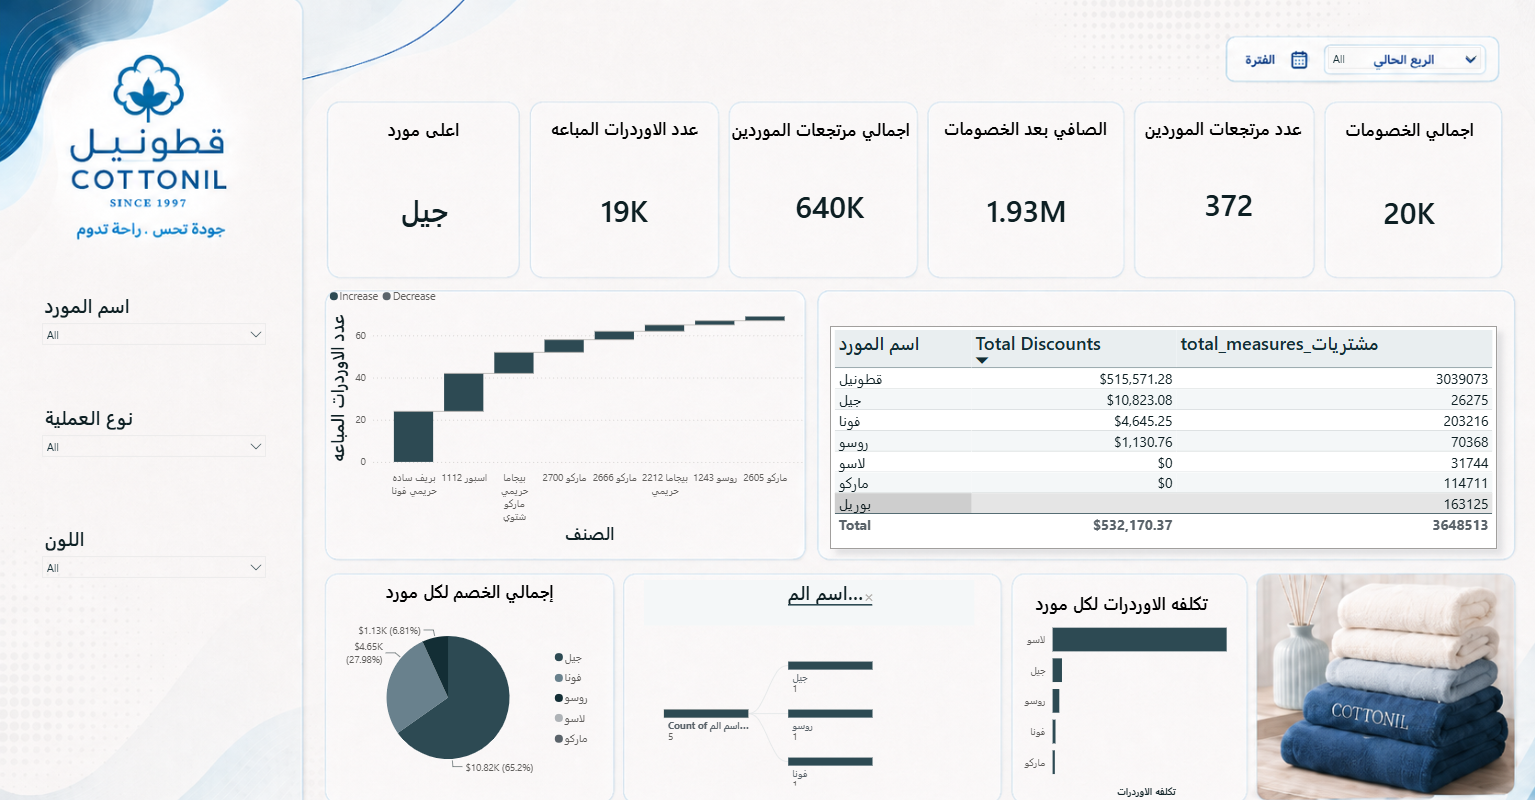

This screenshot's page, from the dashboard's own definition file:
{"tool":"powerbi","page":{"name":"موردين","canvas":[1920,1080],"ordinal":2},"visuals":[{"type":"pieChart","fields":{"Category":["اسم الموردين dim.اسم المورد"],"Y":["Sum(factكشف حساب الموردين.خصم)"]},"box":[422.9,758.6,327.1,231.4],"z":0},{"type":"cardVisual","fields":{"Data":["Min(factكشف حساب الموردين.اسم المورد)"]},"box":[440,216.7,180,95],"z":1000},{"type":"cardVisual","fields":{"Data":["_Measures المشترياتx المبيعات.عدد الاوردرات"]},"box":[1674.3,190,175.7,150],"z":2000},{"type":"card","fields":{"Values":["Sum(المشتريات قبل وبعد الخصم fact.الصافي)"]},"box":[1190,213.3,186.7,103.3],"z":3000},{"type":"card","fields":{"Values":["_Measures كشف حساب الموردين.قيمه المرتجعات من الموردين"]},"box":[948.3,208.3,176.7,103.3],"z":4000},{"type":"card","fields":{"Values":["_Measures المشترياتx المبيعات.عدد الاوردرات المباعه"]},"box":[681.7,213.3,198.3,103.3],"z":5000},{"type":"textbox","box":[1161.7,143.3,241.7,68.3],"z":7000},{"type":"textbox","box":[1641.7,145,241.7,68.3],"z":8000},{"type":"textbox","box":[905,145,241.7,68.3],"z":9000},{"type":"textbox","box":[675,143.3,211.7,68.3],"z":10000},{"type":"textbox","box":[423.3,145,211.7,68.3],"z":11000},{"type":"card","fields":{"Values":["_Measures كشف حساب الموردين.مرتجعات الموردين"]},"box":[1442.9,177.1,187.1,161.4],"z":12000},{"type":"tableEx","fields":{"Values":["اسم الموردين dim.اسم المورد","_Measures كشف حساب الموردين.Total Discounts","_Measures كشف حساب الموردين.total_measures_مشتريات"]},"box":[1037.1,410,834.3,278.6],"z":13000},{"type":"decompositionTreeVisual","fields":{"Analyze":["Count(dim الاصناف.اسم المورد)"],"ExplainBy":["dim الاصناف.اسم المورد"]},"box":[800,722.9,422.9,267.1],"z":14000},{"type":"textbox","box":[1415.7,144.3,225.7,68.6],"z":15000},{"type":"barChart","fields":{"Category":["factكشف حساب الموردين.اسم المورد"],"Y":["_Measures كشف حساب الموردين.تكلفه الاوردرات"]},"box":[1274.3,758.6,281.4,245.7],"z":16000},{"type":"slicer","fields":{"Values":["المبيعات dim date.الشهر"]},"box":[1650,51.4,211.4,52.9],"z":16001},{"type":"waterfallChart","fields":{"Category":["dim الاصناف.الصنف"],"Y":["_Measures المشترياتx المبيعات.عدد الاوردرات المباعه"]},"box":[405.7,352.9,605.7,335.7],"z":16002},{"type":"textbox","box":[1261.4,737.1,281.4,42.9],"z":16003},{"type":"textbox","box":[398.6,722.9,382.9,51.4],"z":16004},{"type":"slicer","fields":{"Values":["dim الاصناف.اسم المورد"]},"box":[42.9,362.9,300,94.3],"z":16005},{"type":"slicer","fields":{"Values":["المبيعات dim date.نوع العملية"]},"box":[42.9,502.9,300,94.3],"z":16006},{"type":"slicer","fields":{"Values":["المشتريات قبل وبعد الخصم fact.اللون"]},"box":[42.9,654.3,300,94.3],"z":16007}]}

Visuals, with their boxes on the page's 1920x1080 design canvas (x1, y1, x2, y2). These are canvas units, not pixel positions in the 1535x800 screenshot, which may show the page scaled, cropped or inside an application window:
pieChart - اسم الموردين dim.اسم المورد x Sum(factكشف حساب الموردين.خصم): <box>423,759,750,990</box>
cardVisual - Min(factكشف حساب الموردين.اسم المورد): <box>440,217,620,312</box>
cardVisual - _Measures المشترياتx المبيعات.عدد الاوردرات: <box>1674,190,1850,340</box>
card - Sum(المشتريات قبل وبعد الخصم fact.الصافي): <box>1190,213,1377,317</box>
card - _Measures كشف حساب الموردين.قيمه المرتجعات من الموردين: <box>948,208,1125,312</box>
card - _Measures المشترياتx المبيعات.عدد الاوردرات المباعه: <box>682,213,880,317</box>
textbox: <box>1162,143,1403,212</box>
textbox: <box>1642,145,1883,213</box>
textbox: <box>905,145,1147,213</box>
textbox: <box>675,143,887,212</box>
textbox: <box>423,145,635,213</box>
card - _Measures كشف حساب الموردين.مرتجعات الموردين: <box>1443,177,1630,338</box>
tableEx - اسم الموردين dim.اسم المورد x _Measures كشف حساب الموردين.Total Discounts: <box>1037,410,1871,689</box>
decompositionTreeVisual - Count(dim الاصناف.اسم المورد) x dim الاصناف.اسم المورد: <box>800,723,1223,990</box>
textbox: <box>1416,144,1641,213</box>
barChart - factكشف حساب الموردين.اسم المورد x _Measures كشف حساب الموردين.تكلفه الاوردرات: <box>1274,759,1556,1004</box>
slicer - المبيعات dim date.الشهر: <box>1650,51,1861,104</box>
waterfallChart - dim الاصناف.الصنف x _Measures المشترياتx المبيعات.عدد الاوردرات المباعه: <box>406,353,1011,689</box>
textbox: <box>1261,737,1543,780</box>
textbox: <box>399,723,782,774</box>
slicer - dim الاصناف.اسم المورد: <box>43,363,343,457</box>
slicer - المبيعات dim date.نوع العملية: <box>43,503,343,597</box>
slicer - المشتريات قبل وبعد الخصم fact.اللون: <box>43,654,343,749</box>
